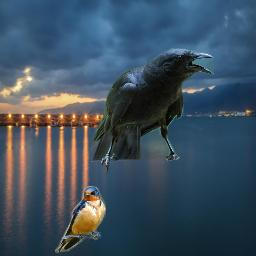Crow: (89, 48, 214, 173)
Swallow: (55, 186, 106, 253)
